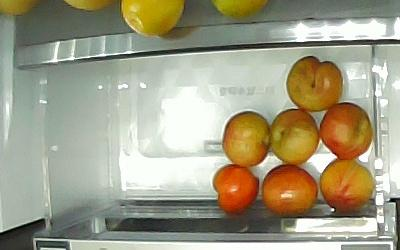prune: (284, 54, 343, 111), (260, 162, 319, 215), (318, 101, 372, 158), (318, 157, 375, 210), (220, 109, 271, 167), (268, 107, 319, 163), (211, 162, 259, 213)
